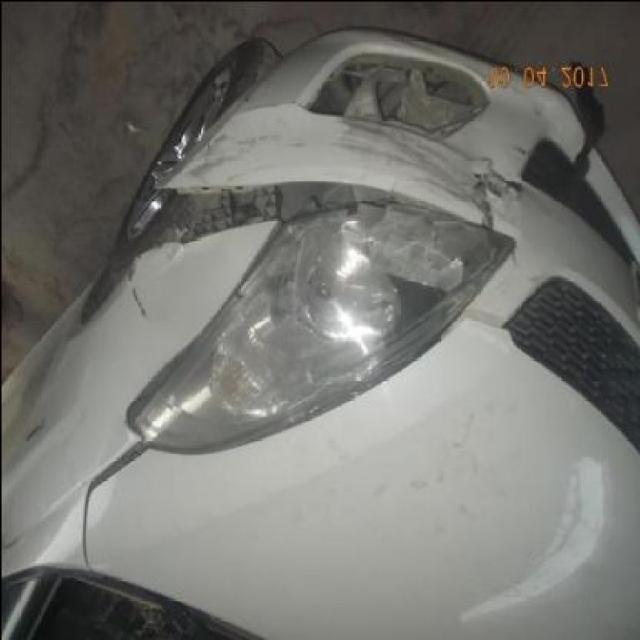damage: (266, 209, 508, 382), (136, 174, 433, 258), (300, 41, 495, 140), (335, 121, 472, 201), (181, 129, 306, 179), (469, 158, 531, 228), (125, 285, 154, 321)
